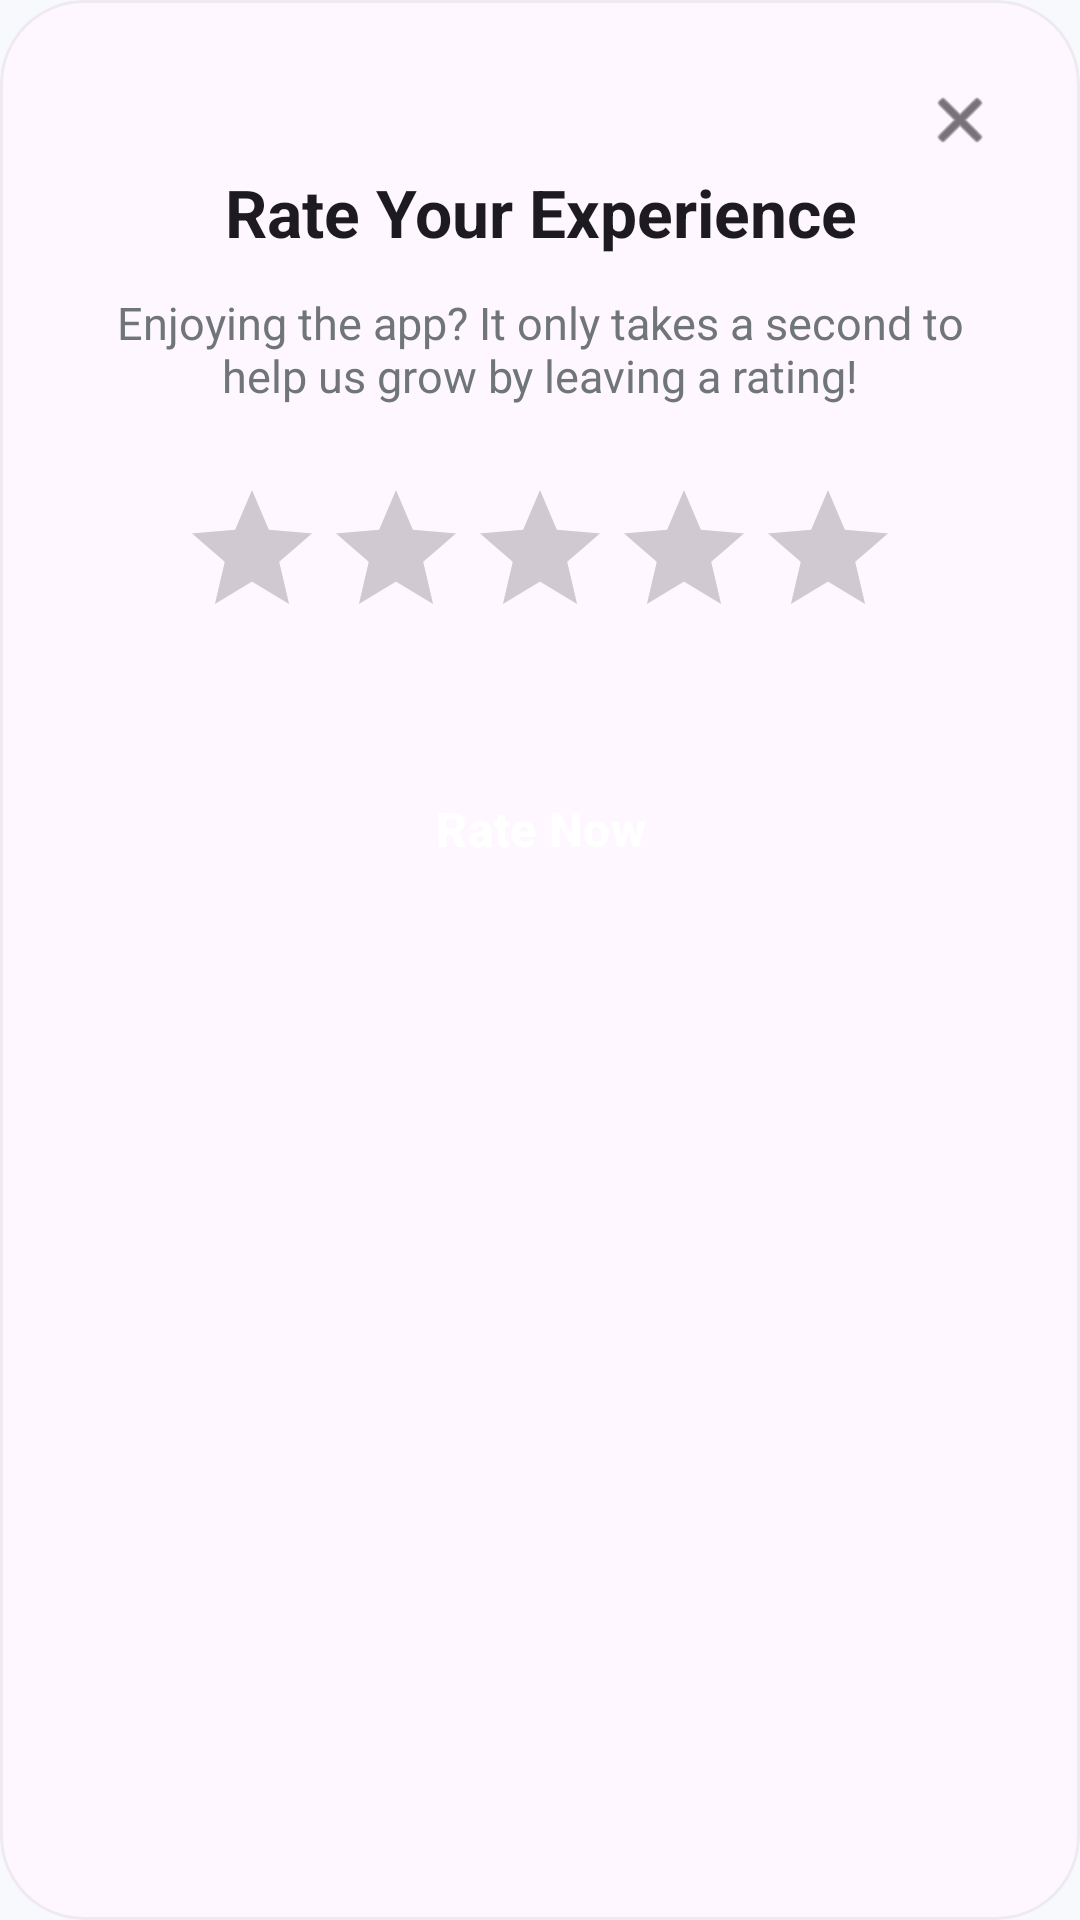

Where icons sit on this 1080 x 1920 app screen, as box(x1, y1, x2, y2):
close clear cancel: box(937, 97, 983, 143)
